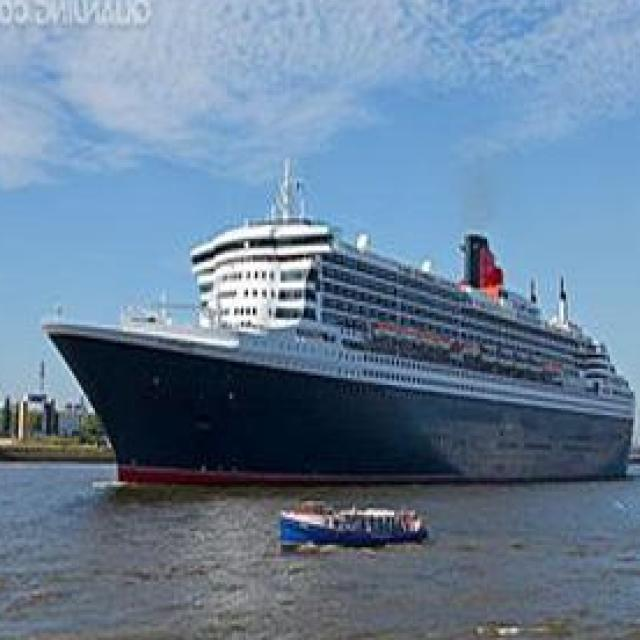fishing boat: (273, 498, 434, 548)
passenger ship: (44, 216, 639, 490)
